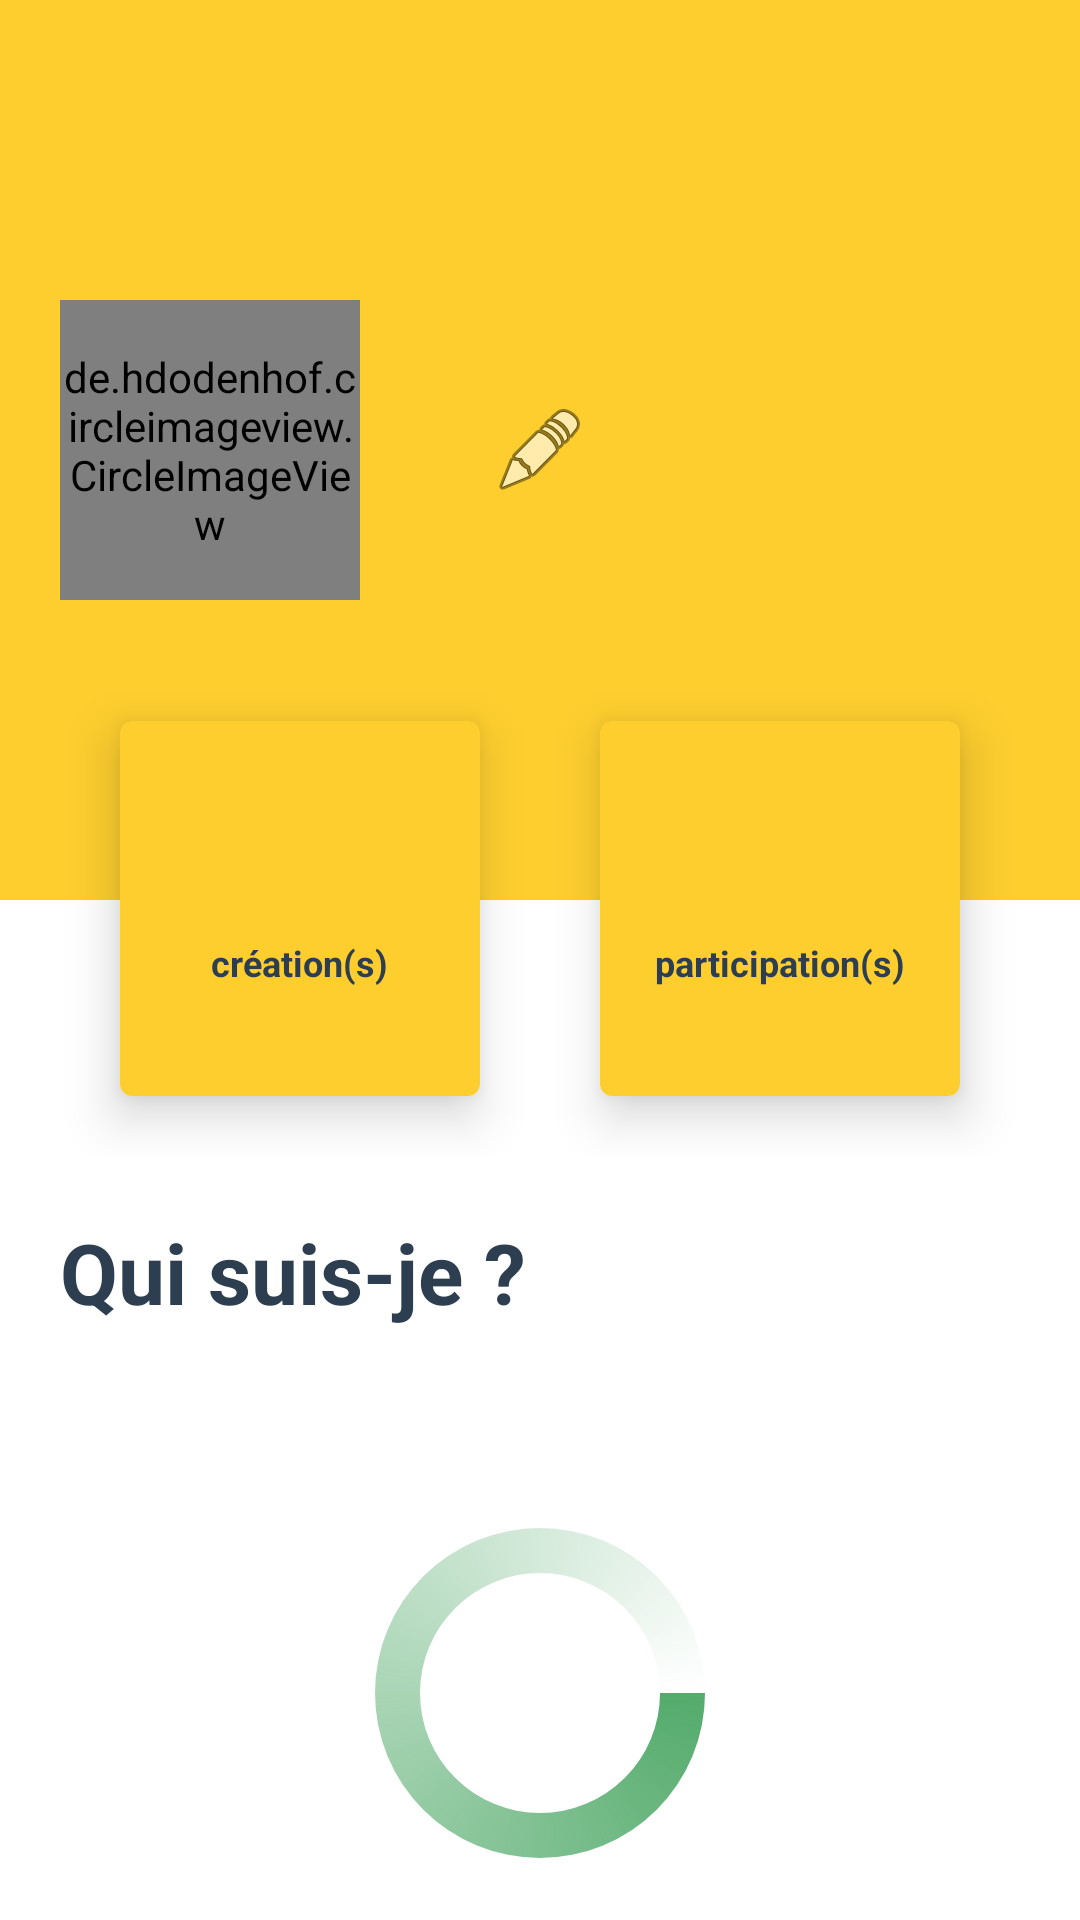

Named icons in this screenshot (1080 × 1920) and their bounding boxes, (x1, y1, x2, y2):
pencil: (499, 409, 580, 490)
